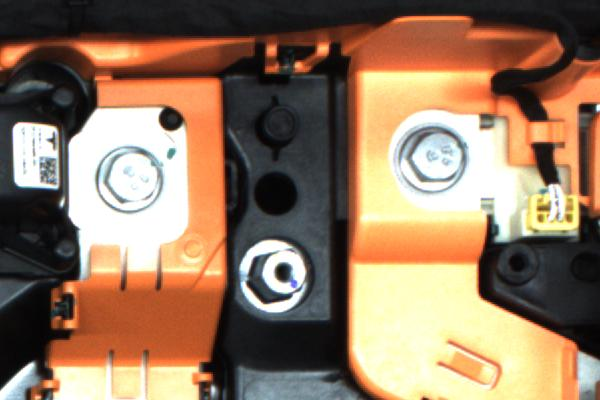nut_b: (379, 115, 477, 199), (83, 142, 169, 214)
